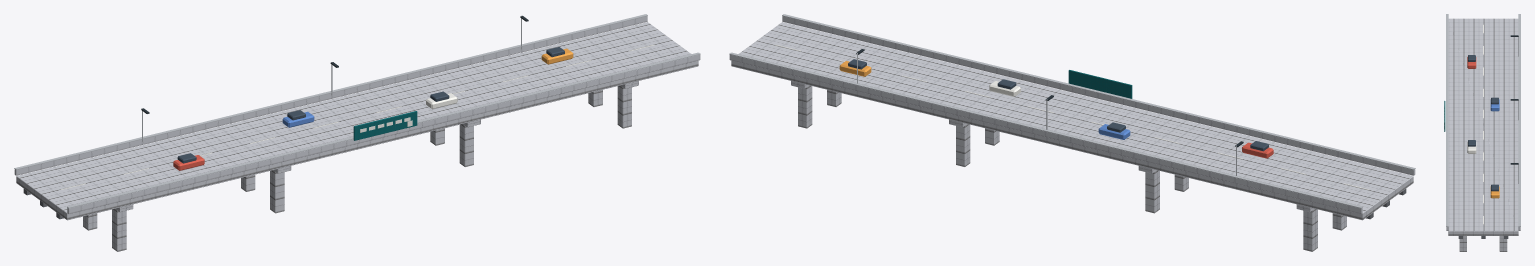
Rendered from overpass.glb.
3 renders of one model, left to right at view 1: azimuth 30°, elevation 25°; view 2: azimuth 150°, elevation 25°; view 3: azimuth 270°, elevation 25°, orthographic. The views are drawn at different scales.
Visible parts, largest first — view 1: harbor_overpass; view 2: harbor_overpass; view 3: harbor_overpass.
Boxes of the visible parts, x1,y1,x2,y2 form: harbor_overpass: (14, 14, 700, 251); harbor_overpass: (729, 14, 1415, 251); harbor_overpass: (1444, 14, 1520, 251).
Size of the model in its own units: 100 by 14.5 by 15.29.
11 materials, 3 textured.
